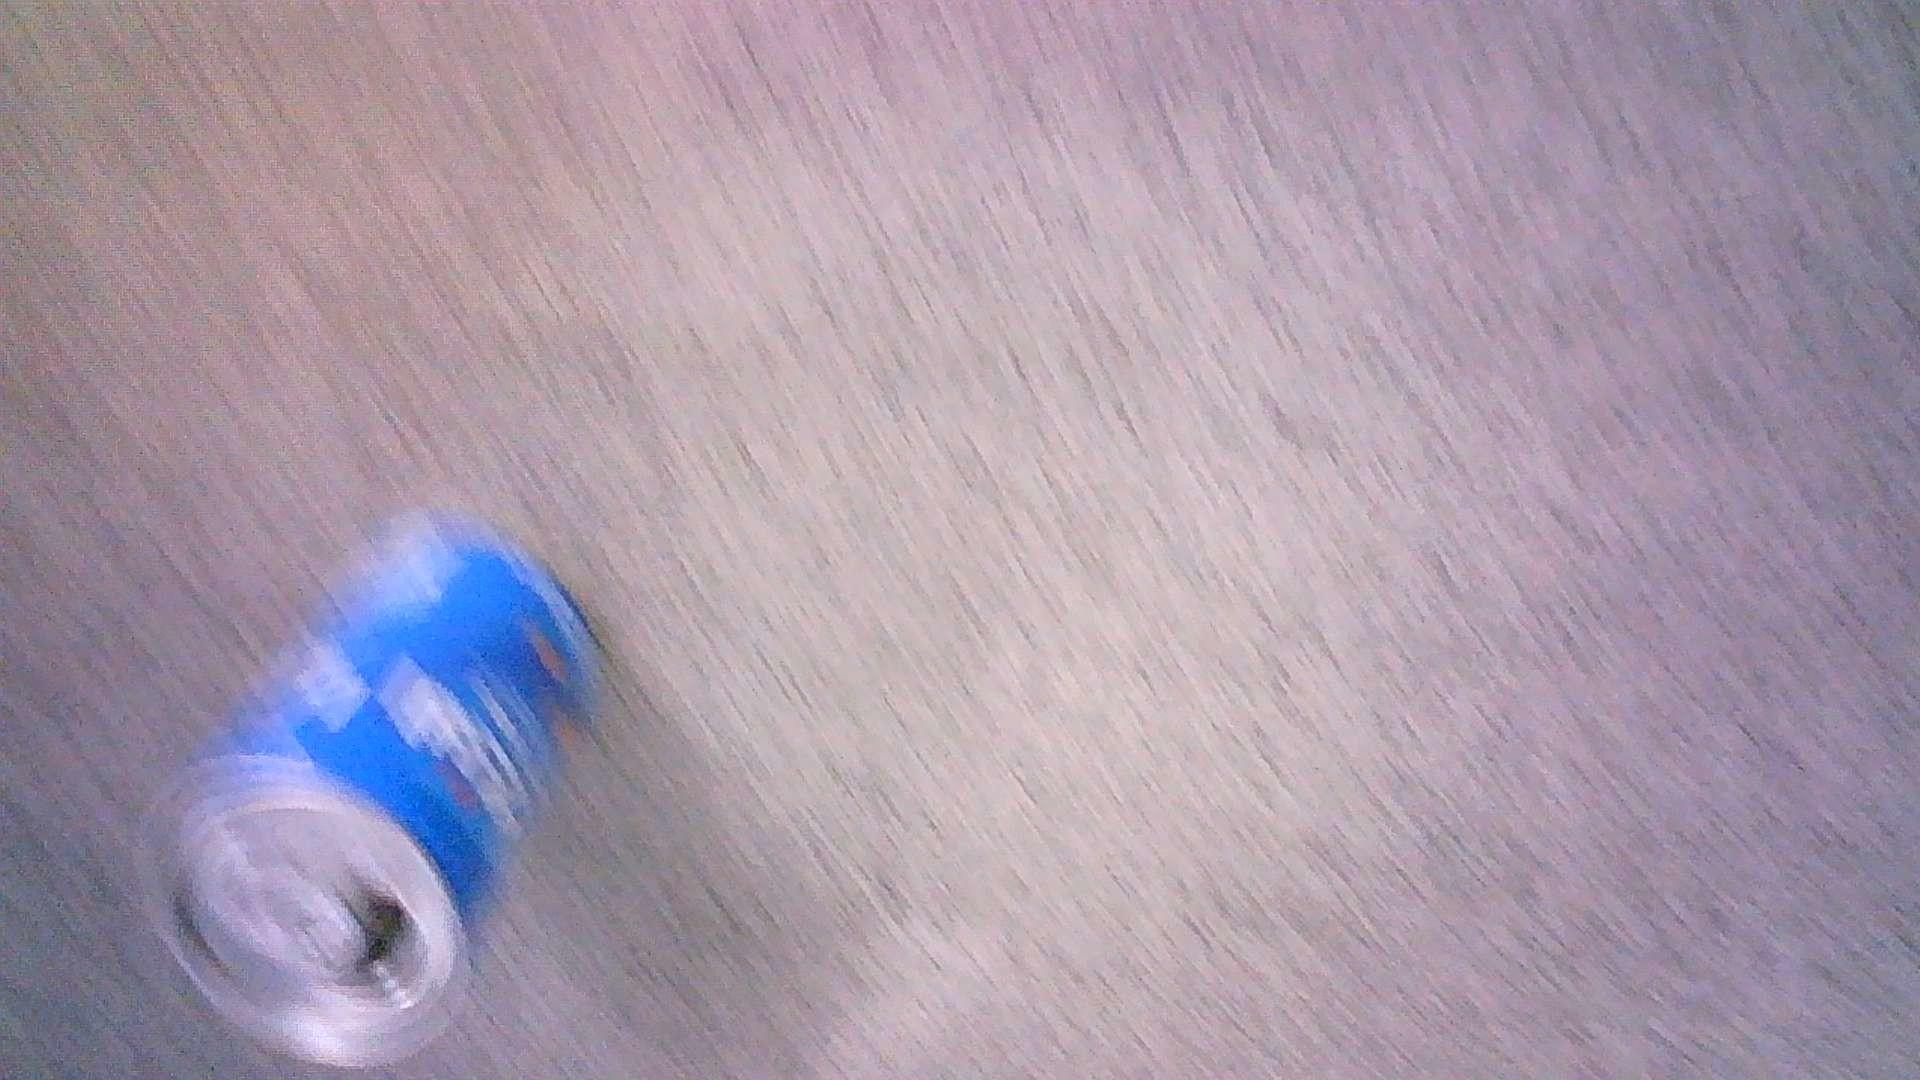letsbe: (142, 509, 604, 1069)
